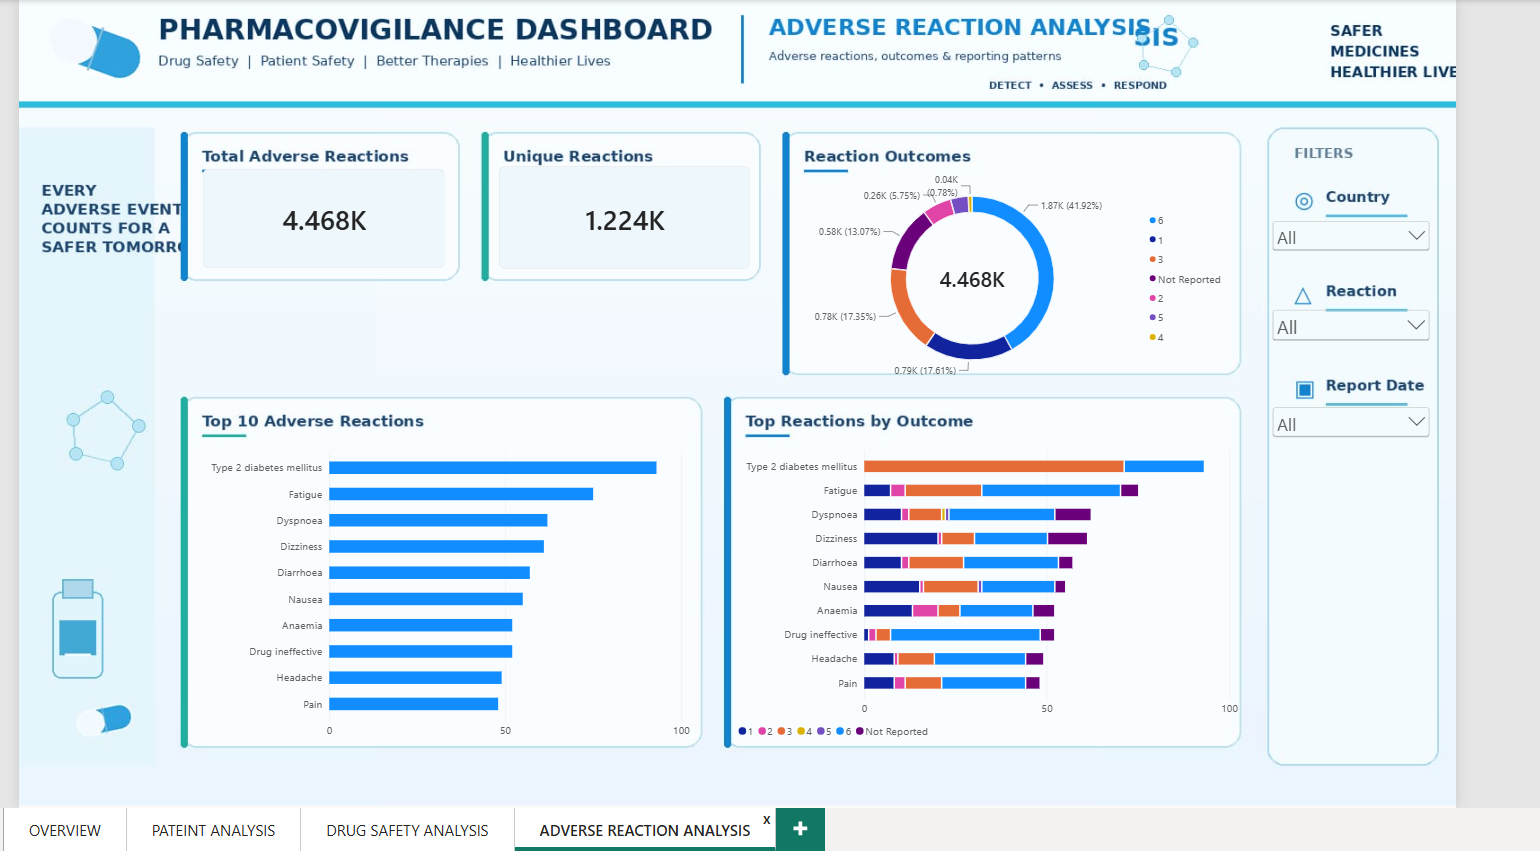

This screenshot's page, from the dashboard's own definition file:
{"tool":"powerbi","page":{"name":"ADVERSE REACTION ANALYSIS","canvas":[1920,1080],"ordinal":3},"visuals":[{"type":"cardVisual","title":"TOTAL ADVERSE REACTIONS","fields":{"Data":["CountNonNull(Reactions.reaction_name)"]},"box":[245.1,225.5,323.5,133.3],"z":0},{"type":"cardVisual","title":"UNIQUE REACTIONS","fields":{"Data":["Count(Reactions.reaction_name)"]},"box":[641.2,221.6,335.3,137.3],"z":1000},{"type":"clusteredBarChart","title":"TOP 10 ADVERSE REACTIONS","fields":{"Category":["Reactions.reaction_name"],"Y":["CountNonNull(Reactions.reaction_name)"]},"box":[245.1,594.1,651,396.1],"z":2000},{"type":"donutChart","title":"REACTION OUTCOMES","fields":{"Category":["Reactions.reaction_outcome"],"Y":["CountNonNull(Reactions.reaction_name)"]},"box":[1039.2,225.5,576.5,292.2],"z":3000},{"type":"slicer","title":"COUNTRY","fields":{"Values":["Reports.Country Full"]},"box":[1670.6,290.2,219.6,88.2],"z":4000},{"type":"slicer","title":"REACTION","fields":{"Values":["Reactions.reaction_name"]},"box":[1670.6,409.8,219.6,90.2],"z":5000},{"type":"barChart","title":"TOP REACTIONS BY OUTCOME","fields":{"Category":["Reactions.reaction_name"],"Series":["Reactions.reaction_outcome"],"Y":["CountNonNull(Reactions.reaction_name)"]},"box":[960.8,594.1,668.6,396.1],"z":6000},{"type":"slicer","title":"Report Date","fields":{"Values":["Reports.Report Date"]},"box":[1670.6,539.2,219.6,464.7],"z":6001}]}

Visuals, with their boxes on the page's 1920x1080 design canvas (x1, y1, x2, y2). These are canvas units, not pixel positions in the 1540x851 screenshot, which may show the page scaled, cropped or inside an application window:
"TOTAL ADVERSE REACTIONS" cardVisual: crop(245, 226, 569, 359)
"UNIQUE REACTIONS" cardVisual: crop(641, 222, 976, 359)
"TOP 10 ADVERSE REACTIONS" clusteredBarChart: crop(245, 594, 896, 990)
"REACTION OUTCOMES" donutChart: crop(1039, 226, 1616, 518)
"COUNTRY" slicer: crop(1671, 290, 1890, 378)
"REACTION" slicer: crop(1671, 410, 1890, 500)
"TOP REACTIONS BY OUTCOME" barChart: crop(961, 594, 1629, 990)
"Report Date" slicer: crop(1671, 539, 1890, 1004)
